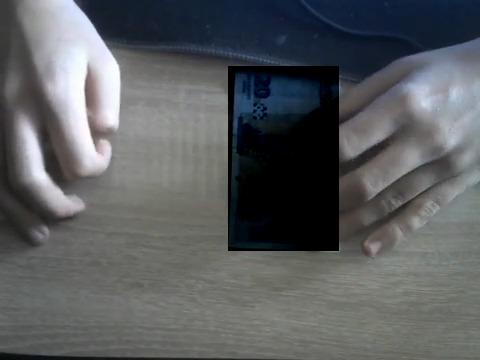20leva: (228, 66, 339, 251)
